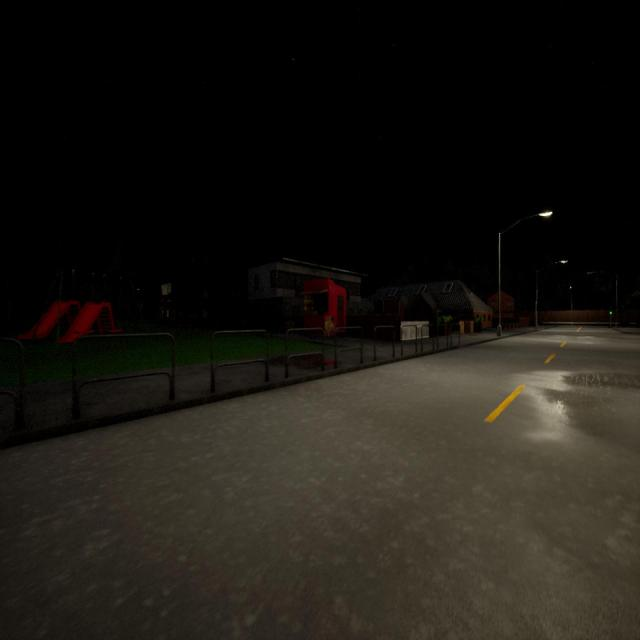traffic_light: (610, 308, 612, 316)
